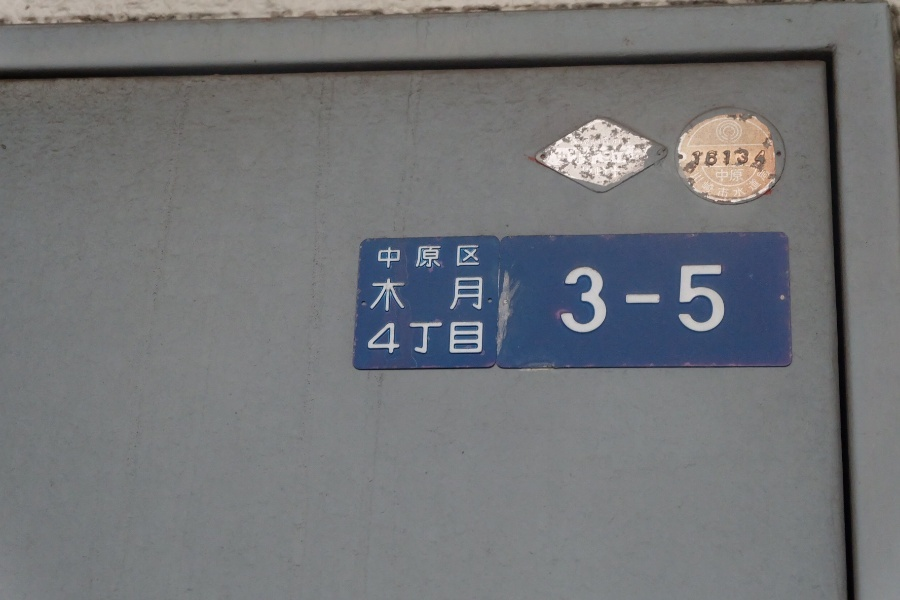text: (577, 265, 592, 333), (593, 265, 608, 333), (609, 265, 624, 333), (625, 265, 640, 333), (641, 265, 656, 333), (657, 265, 672, 333), (673, 265, 688, 333), (689, 265, 704, 333), (705, 265, 720, 333), (567, 265, 576, 333), (385, 278, 400, 313), (401, 278, 416, 313), (417, 278, 432, 313), (433, 278, 448, 313), (449, 278, 464, 313), (465, 278, 480, 313), (369, 322, 384, 355), (385, 322, 400, 355), (401, 322, 416, 355), (417, 322, 432, 355), (433, 322, 448, 355), (449, 322, 464, 355), (465, 322, 480, 355), (705, 169, 720, 201), (721, 169, 736, 201), (737, 169, 752, 201), (753, 169, 768, 201), (372, 278, 384, 313), (385, 245, 400, 270), (401, 245, 416, 270), (417, 245, 432, 270), (433, 245, 448, 270), (449, 245, 464, 270), (693, 169, 704, 201), (465, 245, 479, 270), (721, 265, 726, 333), (561, 149, 576, 165), (577, 149, 592, 165), (593, 149, 608, 165), (609, 149, 624, 165), (625, 149, 640, 165), (705, 150, 720, 165), (721, 150, 736, 165), (737, 150, 752, 165), (753, 150, 766, 165), (721, 169, 736, 182), (693, 150, 704, 165), (593, 167, 608, 177), (577, 137, 592, 146), (593, 137, 608, 146), (609, 137, 624, 146), (379, 245, 384, 270), (609, 167, 620, 177), (583, 167, 592, 177), (737, 169, 743, 182), (625, 137, 631, 146), (557, 149, 560, 165), (641, 149, 644, 165), (571, 137, 576, 146), (717, 169, 720, 182), (481, 278, 482, 313), (481, 322, 482, 355), (769, 169, 770, 201)
